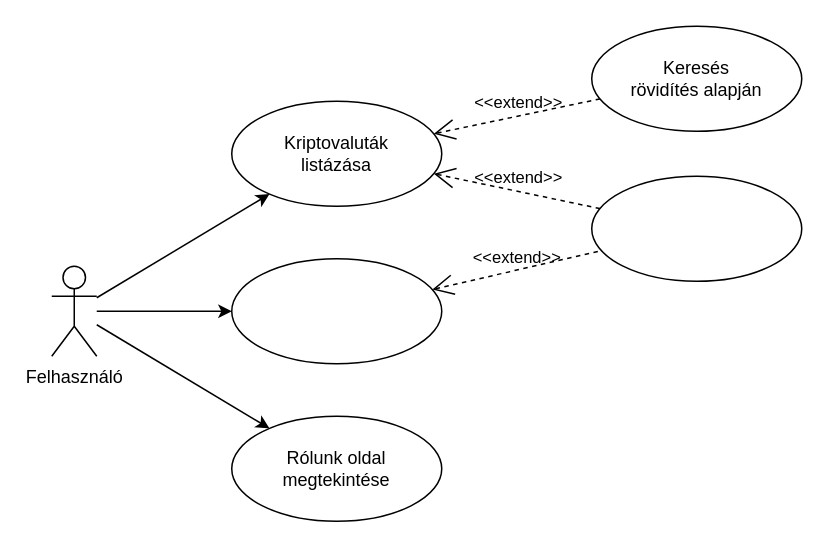
Image size: 828x548. Some labels were removed from this diagram. The shapes that lost their labels are listed below. From the top down, each one's centre as x and y in pixels, then its label:
At pixel 696 228: "Pull to Refresh".
At pixel 336 310: "Kriptavaluta részleteinek megtekintése".
